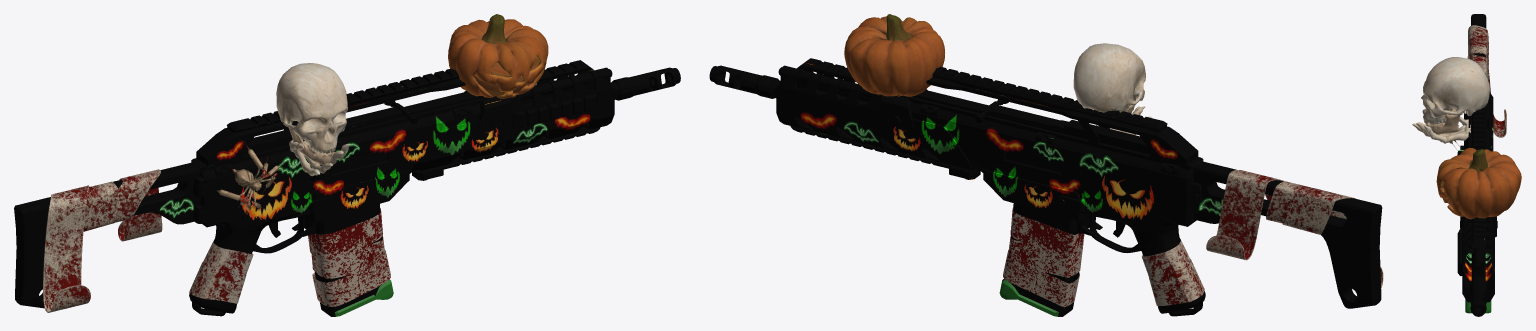
File: WEAPON_G3_HALLOWEEN.glb
The picture shows the model from 3 angles, left to right: view 1: azimuth 30°, elevation 25°; view 2: azimuth 150°, elevation 25°; view 3: azimuth 270°, elevation 25°; orthographic projection. The views are drawn at different scales.
Visible parts, largest first — view 1: AAPCamo.001; view 2: AAPCamo.001; view 3: AAPCamo.001.
Boxes of the visible parts, left/top/right/bottom form: AAPCamo.001: left=14, top=14, right=680, bottom=316; AAPCamo.001: left=709, top=14, right=1383, bottom=316; AAPCamo.001: left=1412, top=14, right=1521, bottom=316.
Size of the model in its own units: 0.8282 by 0.3138 by 0.1402.
12 materials, 12 textured.
